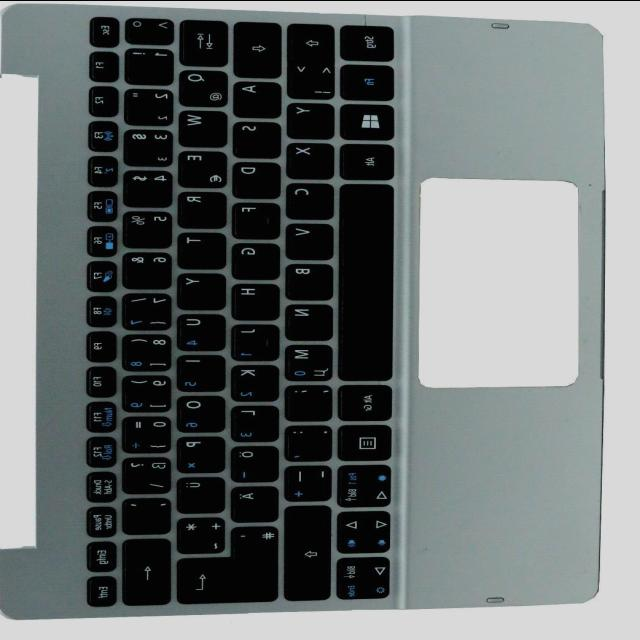0: (122, 416, 172, 452)
1: (125, 48, 174, 85)
2: (125, 87, 173, 125)
3: (124, 128, 173, 166)
4: (123, 170, 171, 207)
5: (122, 211, 172, 247)
6: (122, 252, 172, 288)
7: (123, 293, 173, 329)
8: (122, 334, 172, 371)
9: (122, 374, 171, 411)
a: (233, 81, 281, 118)
accent: (122, 497, 172, 534)
ae: (231, 485, 279, 522)
alt-left: (340, 143, 394, 179)
altgr-right: (338, 384, 392, 421)
b: (285, 263, 333, 300)
c: (287, 183, 333, 219)
caret: (125, 16, 174, 44)
comma: (284, 384, 332, 420)
d: (233, 161, 281, 198)
del: (123, 537, 172, 605)
e: (179, 150, 227, 188)
enter: (177, 564, 279, 603)
f: (231, 202, 281, 239)
g: (231, 242, 280, 278)
h: (231, 283, 279, 319)
hash: (230, 525, 278, 563)
i: (176, 354, 226, 391)
j: (231, 323, 279, 360)
k: (231, 364, 280, 401)
keyboard: (70, 7, 408, 613)
l: (230, 405, 279, 441)
less: (286, 62, 334, 99)
m: (285, 344, 333, 381)
minus: (284, 465, 332, 501)
n: (285, 304, 333, 340)
o: (176, 395, 226, 431)
oe: (231, 445, 279, 481)
p: (176, 436, 226, 473)
plus: (176, 516, 225, 553)
point: (284, 424, 332, 460)
q: (179, 69, 228, 106)
r: (178, 190, 226, 228)
s: (233, 121, 281, 158)
shift-left: (287, 22, 335, 60)
shift-lock: (234, 20, 282, 78)
shift-right: (284, 504, 330, 600)
space: (336, 183, 392, 381)
ss: (122, 456, 172, 493)
strg-left: (340, 24, 394, 61)
t: (177, 232, 226, 269)
tab: (179, 18, 229, 65)
u: (177, 314, 225, 350)
ue: (177, 476, 226, 513)
v: (285, 223, 333, 260)
w: (179, 110, 227, 146)
x: (286, 142, 334, 179)
y: (287, 101, 335, 138)
z: (177, 273, 226, 310)
